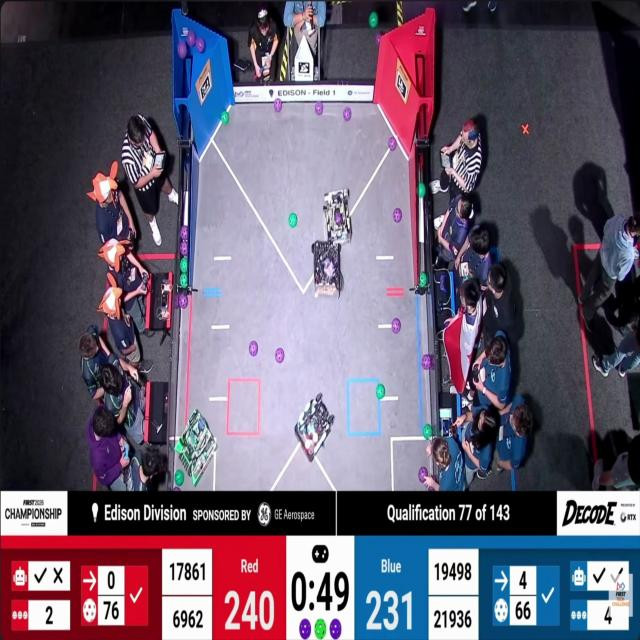artifact_green: (315, 619, 326, 639), (418, 467, 428, 484), (175, 470, 185, 486), (369, 12, 379, 28), (178, 294, 188, 309), (376, 384, 385, 399), (418, 182, 426, 198), (180, 257, 188, 273), (289, 213, 297, 228), (419, 272, 427, 287), (423, 424, 431, 439), (180, 274, 188, 288), (221, 111, 229, 125), (376, 34, 381, 45)
artifact_purple: (299, 619, 311, 639), (330, 619, 341, 639), (275, 347, 285, 364), (178, 41, 187, 59), (421, 354, 431, 370), (418, 467, 428, 483), (249, 340, 258, 356), (388, 136, 397, 152), (187, 31, 196, 46), (196, 38, 205, 53), (393, 208, 402, 223), (440, 274, 447, 293), (179, 294, 188, 308), (274, 98, 282, 113), (180, 241, 188, 256), (392, 318, 400, 333), (315, 101, 323, 115), (181, 226, 188, 241), (344, 107, 351, 121), (336, 213, 342, 224), (376, 34, 381, 45), (174, 295, 178, 308), (427, 486, 435, 491), (173, 487, 181, 491)
